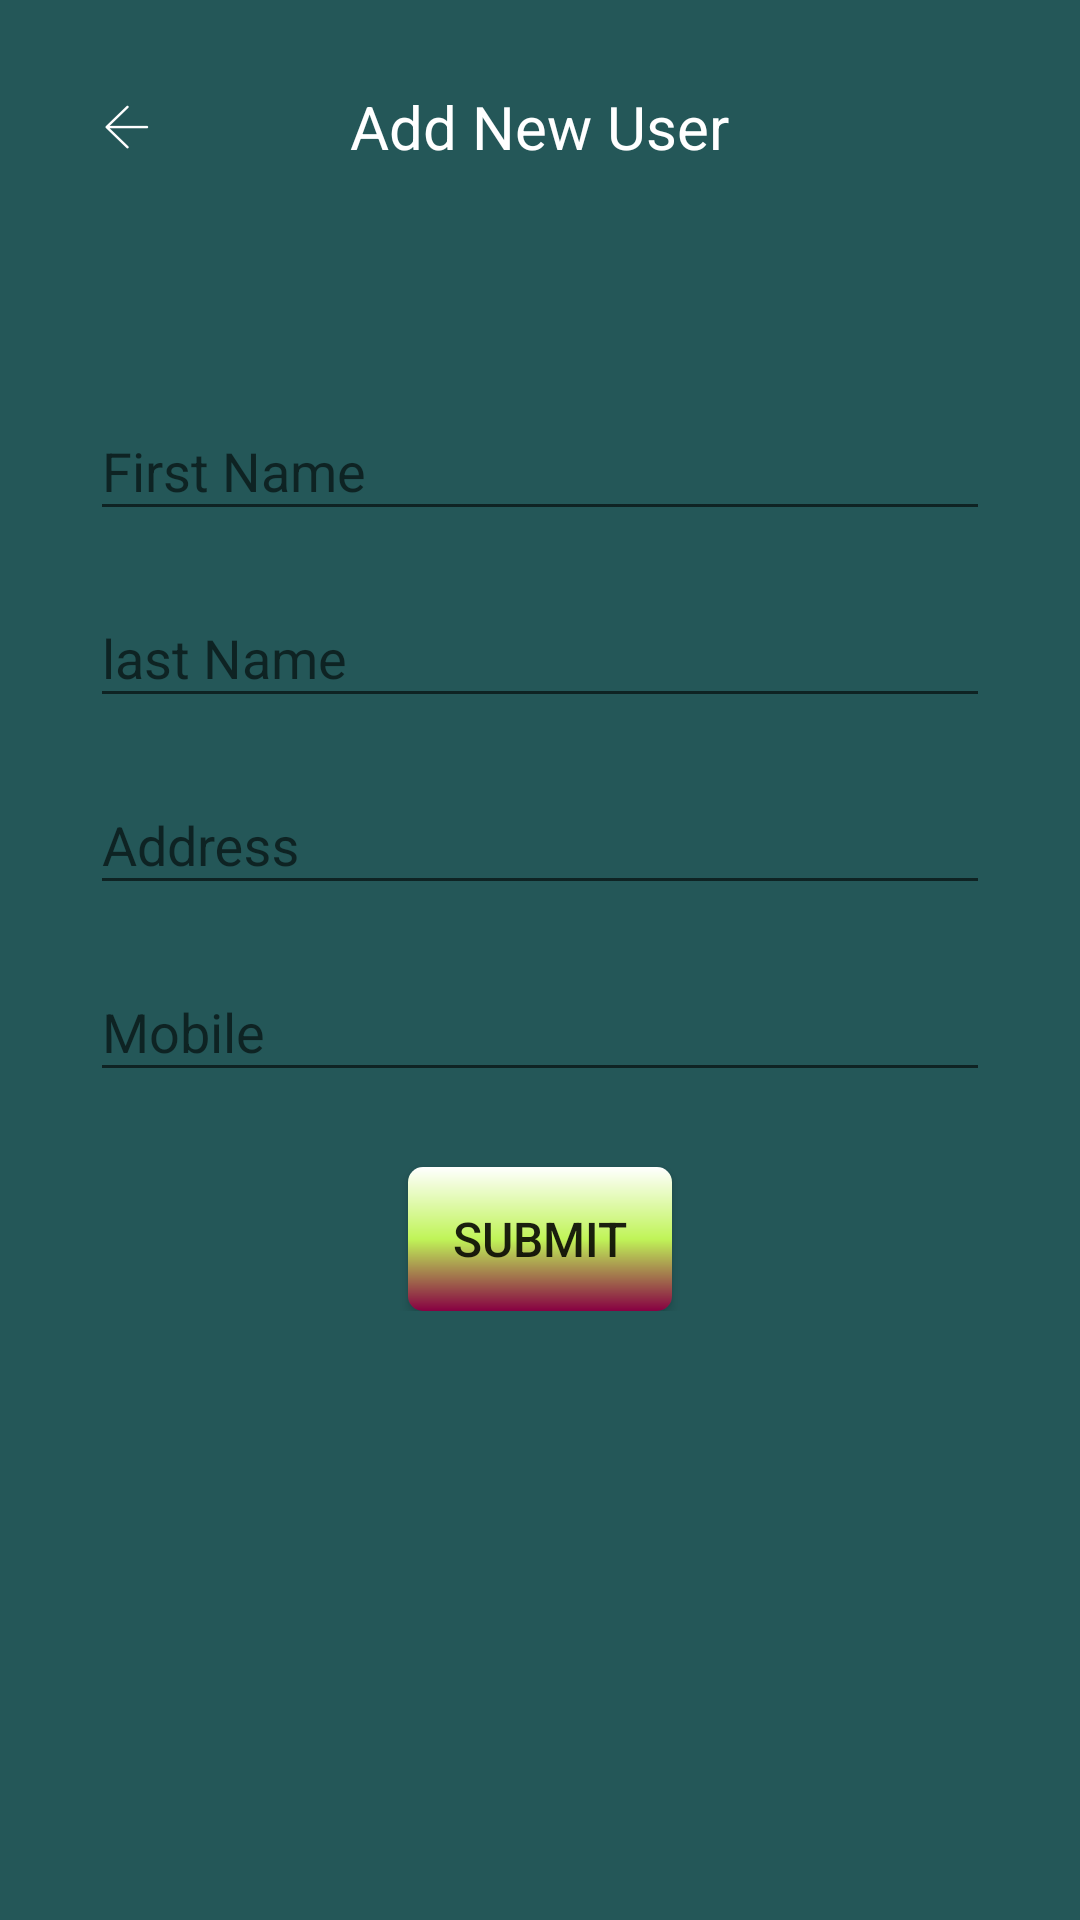

Icons on this 1080px×1920px Android screen, each with the point to tap as [x,y]:
back: [126,127]
